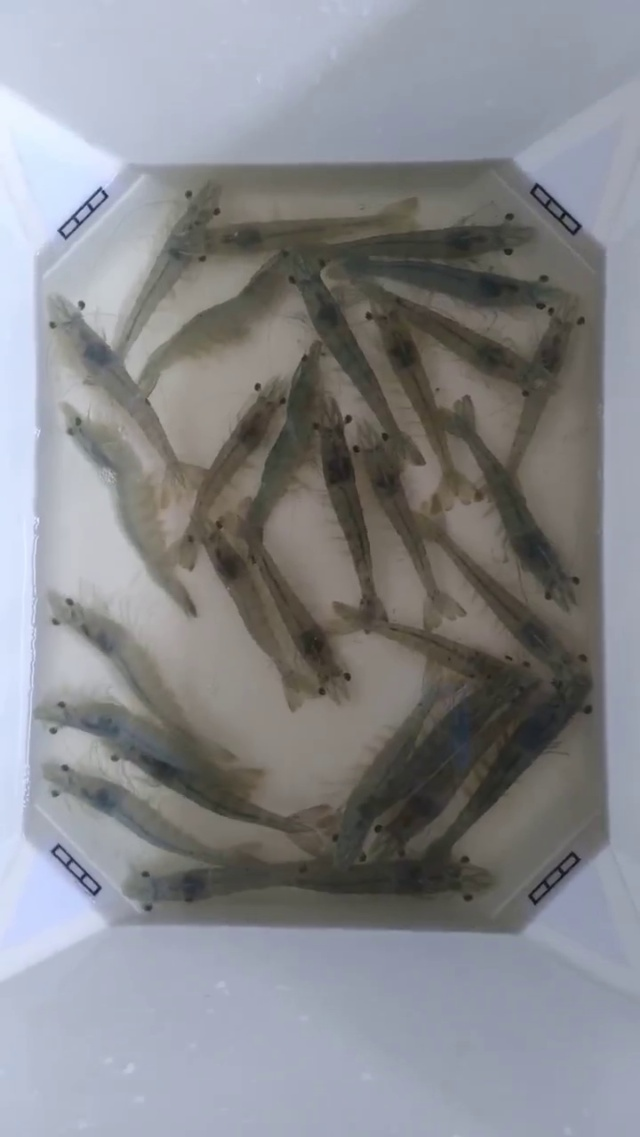shrimp: (521, 126, 639, 487), (529, 437, 639, 736), (87, 409, 202, 614), (0, 596, 103, 802), (574, 522, 639, 798), (406, 763, 514, 926), (32, 177, 122, 371), (443, 396, 540, 570), (121, 181, 219, 353), (82, 775, 204, 909), (185, 484, 276, 657), (289, 765, 388, 921), (79, 322, 178, 477), (321, 202, 420, 355), (210, 188, 322, 302), (47, 294, 149, 415), (296, 340, 361, 513), (47, 592, 149, 699), (0, 211, 39, 468), (206, 374, 290, 478), (0, 513, 36, 742), (279, 614, 358, 710), (331, 559, 389, 636)
